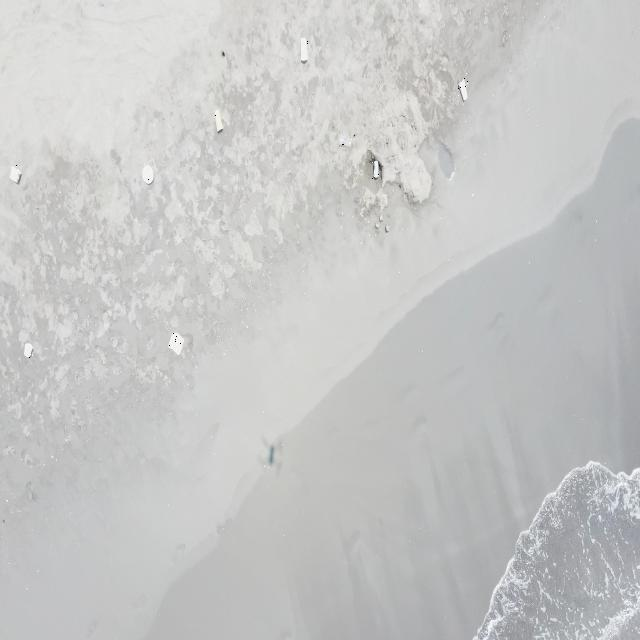take-away-containers: (169, 331, 184, 357), (142, 164, 155, 186), (10, 165, 22, 183), (24, 343, 33, 358)
takeaway-cup: (458, 78, 468, 104), (214, 110, 224, 134), (300, 37, 308, 64), (372, 158, 380, 180), (339, 134, 352, 146)
